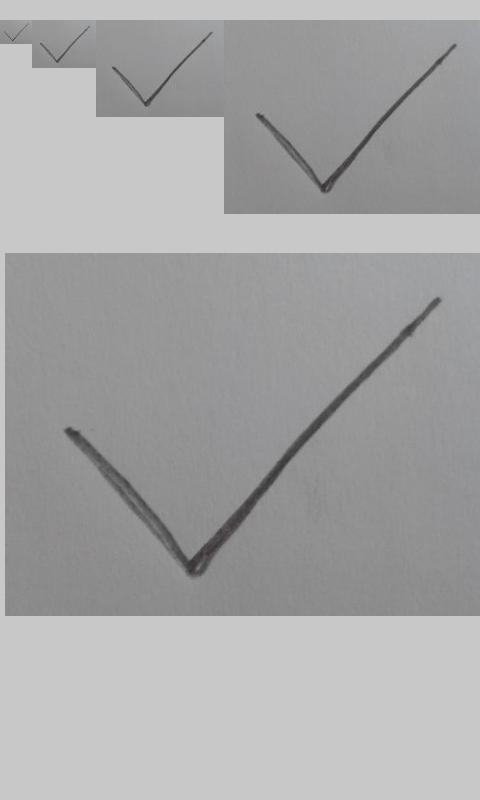check_box: (64, 298, 440, 575), (255, 44, 455, 194), (112, 31, 213, 107), (40, 26, 89, 63), (4, 24, 27, 42)
